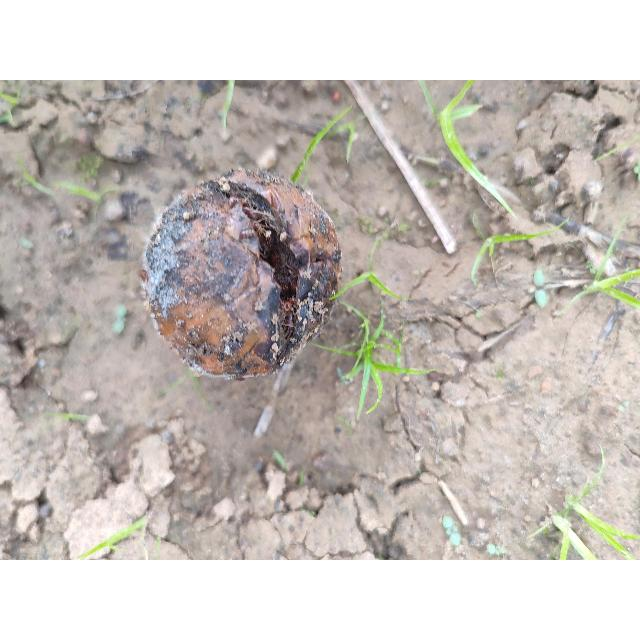damaged: (140, 169, 344, 382)
